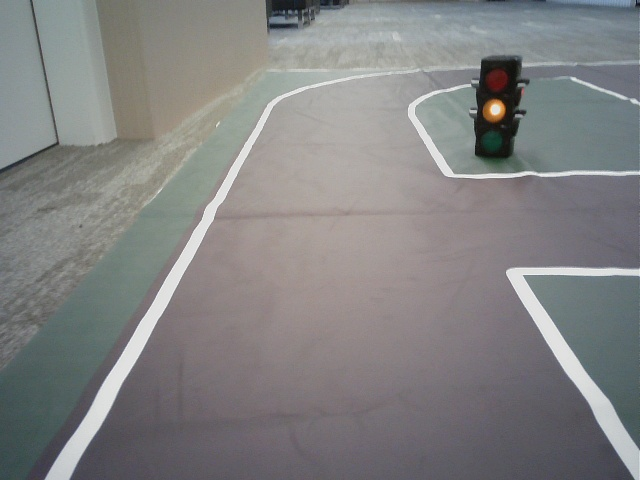yellow: (476, 62, 509, 153)
